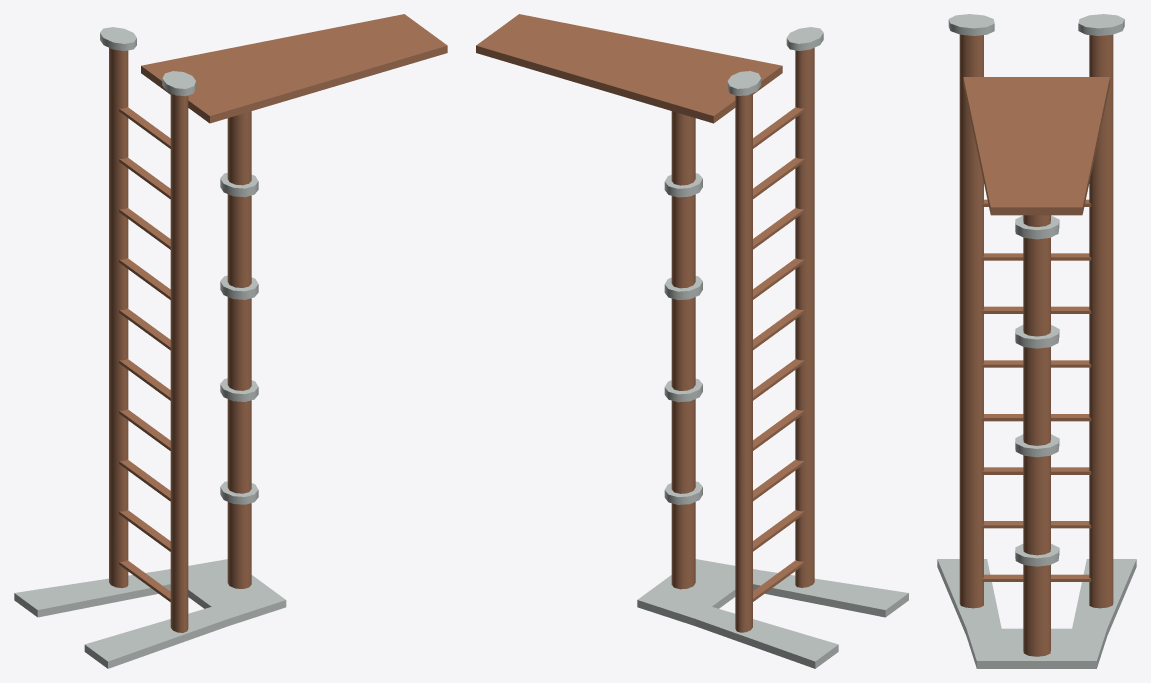
The model's file is F_WaterJump_01.fbx.
3 renders of one model, left to right at view 1: azimuth 30°, elevation 25°; view 2: azimuth 150°, elevation 25°; view 3: azimuth 270°, elevation 25°, orthographic. The views are drawn at different scales.
Parts seen in each view (by area): view 1: F_WaterJump_01; view 2: F_WaterJump_01; view 3: F_WaterJump_01.
Part boxes in pixels (<box>): F_WaterJump_01: <box>14,14,447,668</box>; F_WaterJump_01: <box>476,14,908,668</box>; F_WaterJump_01: <box>937,14,1136,668</box>.
Size of the model in its own units: 427 by 622 by 190.
